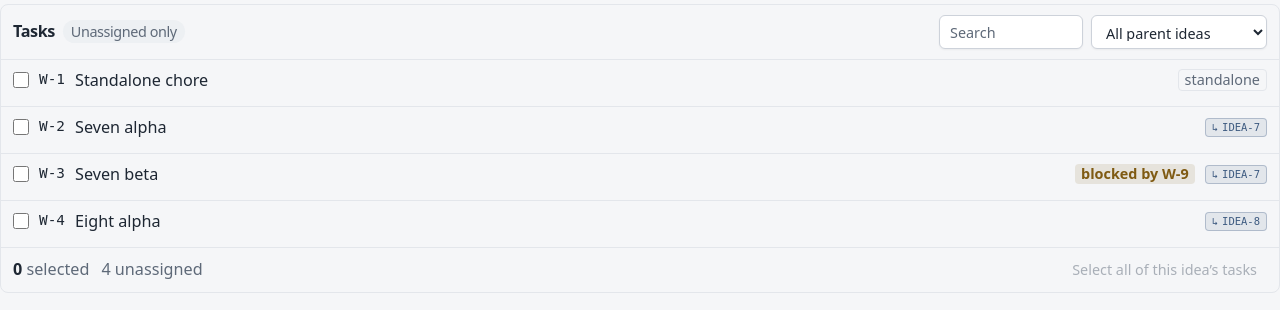
SprintTaskPicker filters › filters to one parent idea
Select "IDEA-7" in the dropdown named "Parent idea" at (1179, 32), box [1091, 15, 1267, 49]
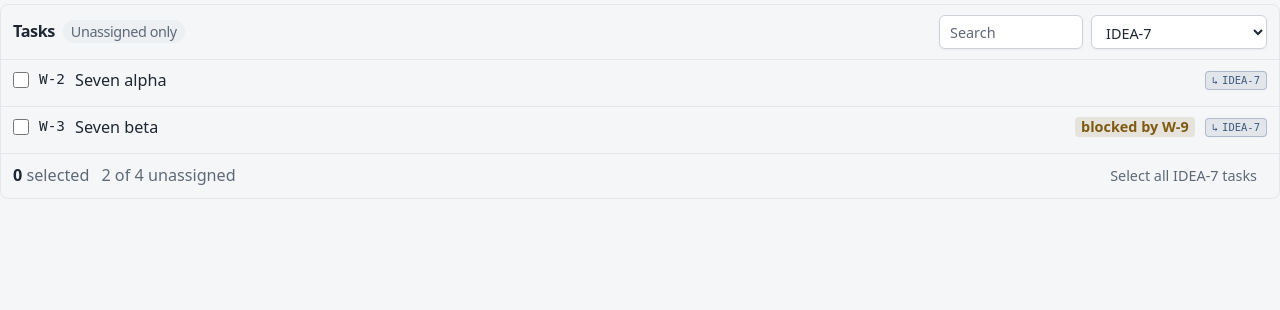
Check: the number of labels is 2, box [13, 69, 1267, 91]; [13, 116, 1267, 138]
